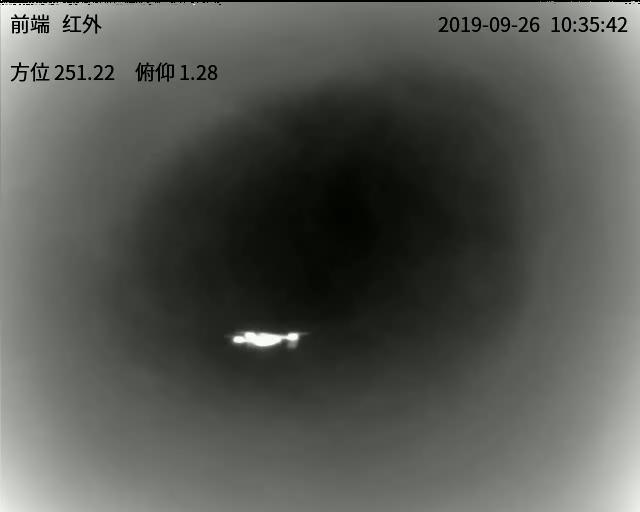uav: (237, 328, 311, 353)
